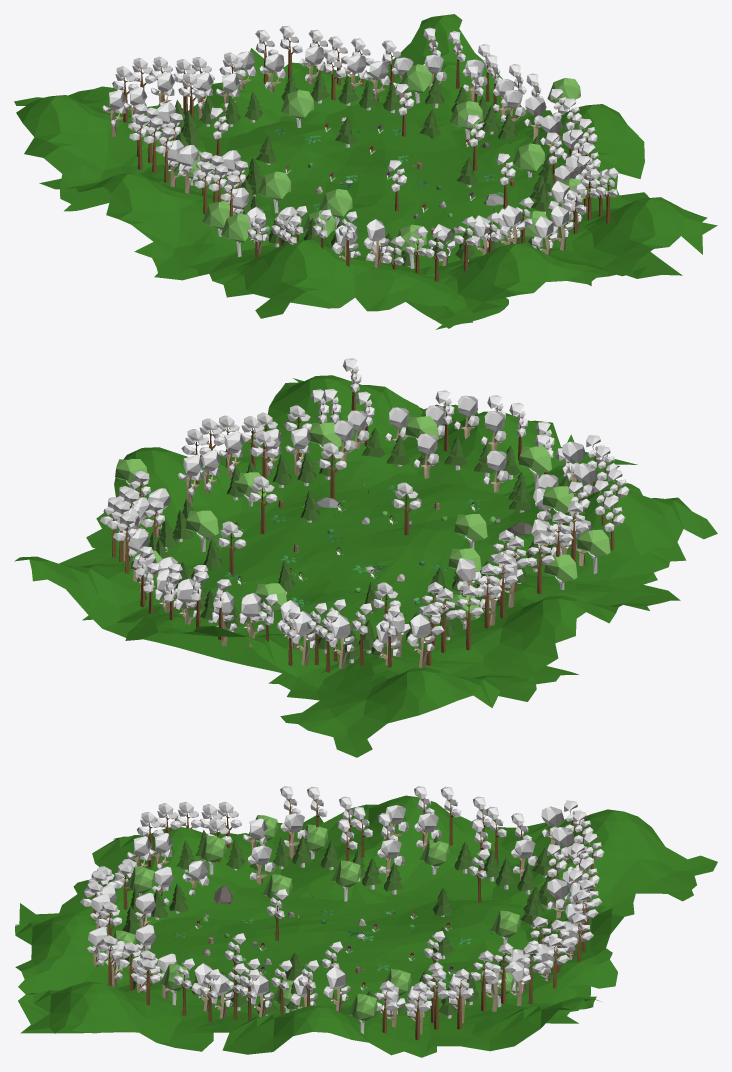
File: Bosque.fbx
3 renders of one model, top to bottom at view 1: azimuth 30°, elevation 25°; view 2: azimuth 150°, elevation 25°; view 3: azimuth 270°, elevation 25°, orthographic. The views are drawn at different scales.
Visible parts, largest first — view 1: imagetostl_mesh1, imagetostl_mesh14, imagetostl_mesh13, imagetostl_mesh9, imagetostl_mesh10, imagetostl_mesh15, imagetostl_mesh11, imagetostl_mesh8, imagetostl_mesh12, imagetostl_mesh51, imagetostl_mesh49, imagetostl_mesh49.003 (+20 smaller); view 2: imagetostl_mesh1, imagetostl_mesh13, imagetostl_mesh9, imagetostl_mesh14, imagetostl_mesh11, imagetostl_mesh15, imagetostl_mesh12, imagetostl_mesh10, imagetostl_mesh8, imagetostl_mesh153.019, imagetostl_mesh51.003, imagetostl_mesh49.006 (+21 smaller); view 3: imagetostl_mesh1, imagetostl_mesh9, imagetostl_mesh13, imagetostl_mesh14, imagetostl_mesh11, imagetostl_mesh15, imagetostl_mesh10, imagetostl_mesh12, imagetostl_mesh8, imagetostl_mesh153, imagetostl_mesh49.005, imagetostl_mesh51 (+46 smaller).
Boxes of the visible parts, x1=… form: imagetostl_mesh1: x1=197, y1=102, x2=552, y2=268; imagetostl_mesh14: x1=186, y1=228, x2=508, y2=329; imagetostl_mesh13: x1=14, y1=86, x2=205, y2=211; imagetostl_mesh9: x1=39, y1=164, x2=278, y2=280; imagetostl_mesh10: x1=406, y1=243, x2=682, y2=328; imagetostl_mesh15: x1=525, y1=192, x2=717, y2=285; imagetostl_mesh11: x1=453, y1=104, x2=644, y2=217; imagetostl_mesh8: x1=169, y1=48, x2=387, y2=137; imagetostl_mesh12: x1=350, y1=14, x2=529, y2=130; imagetostl_mesh51: x1=258, y1=171, x2=291, y2=213; imagetostl_mesh49: x1=281, y1=90, x2=314, y2=127; imagetostl_mesh49.003: x1=513, y1=143, x2=545, y2=177; imagetostl_mesh1: x1=133, y1=474, x2=515, y2=676; imagetostl_mesh13: x1=268, y1=648, x2=578, y2=757; imagetostl_mesh9: x1=401, y1=573, x2=680, y2=701; imagetostl_mesh14: x1=463, y1=447, x2=717, y2=593; imagetostl_mesh11: x1=86, y1=446, x2=321, y2=563; imagetostl_mesh15: x1=219, y1=375, x2=422, y2=488; imagetostl_mesh12: x1=14, y1=542, x2=193, y2=637; imagetostl_mesh10: x1=392, y1=404, x2=619, y2=494; imagetostl_mesh8: x1=82, y1=604, x2=339, y2=688; imagetostl_mesh153.019: x1=407, y1=613, x2=435, y2=667; imagetostl_mesh51.003: x1=577, y1=529, x2=610, y2=573; imagetostl_mesh49.006: x1=519, y1=446, x2=551, y2=490; imagetostl_mesh1: x1=149, y1=896, x2=590, y2=1013; imagetostl_mesh9: x1=273, y1=795, x2=498, y2=903; imagetostl_mesh13: x1=484, y1=809, x2=717, y2=916; imagetostl_mesh14: x1=19, y1=827, x2=295, y2=927; imagetostl_mesh11: x1=169, y1=1004, x2=436, y2=1057; imagetostl_mesh15: x1=25, y1=981, x2=213, y2=1051; imagetostl_mesh10: x1=15, y1=913, x2=148, y2=1033; imagetostl_mesh12: x1=425, y1=996, x2=600, y2=1052; imagetostl_mesh8: x1=509, y1=905, x2=623, y2=1023; imagetostl_mesh153: x1=323, y1=966, x2=350, y2=1012; imagetostl_mesh49.005: x1=197, y1=835, x2=226, y2=874; imagetostl_mesh51: x1=331, y1=860, x2=361, y2=901.
Size of the model in its own units: 1369 by 233 by 1649.
